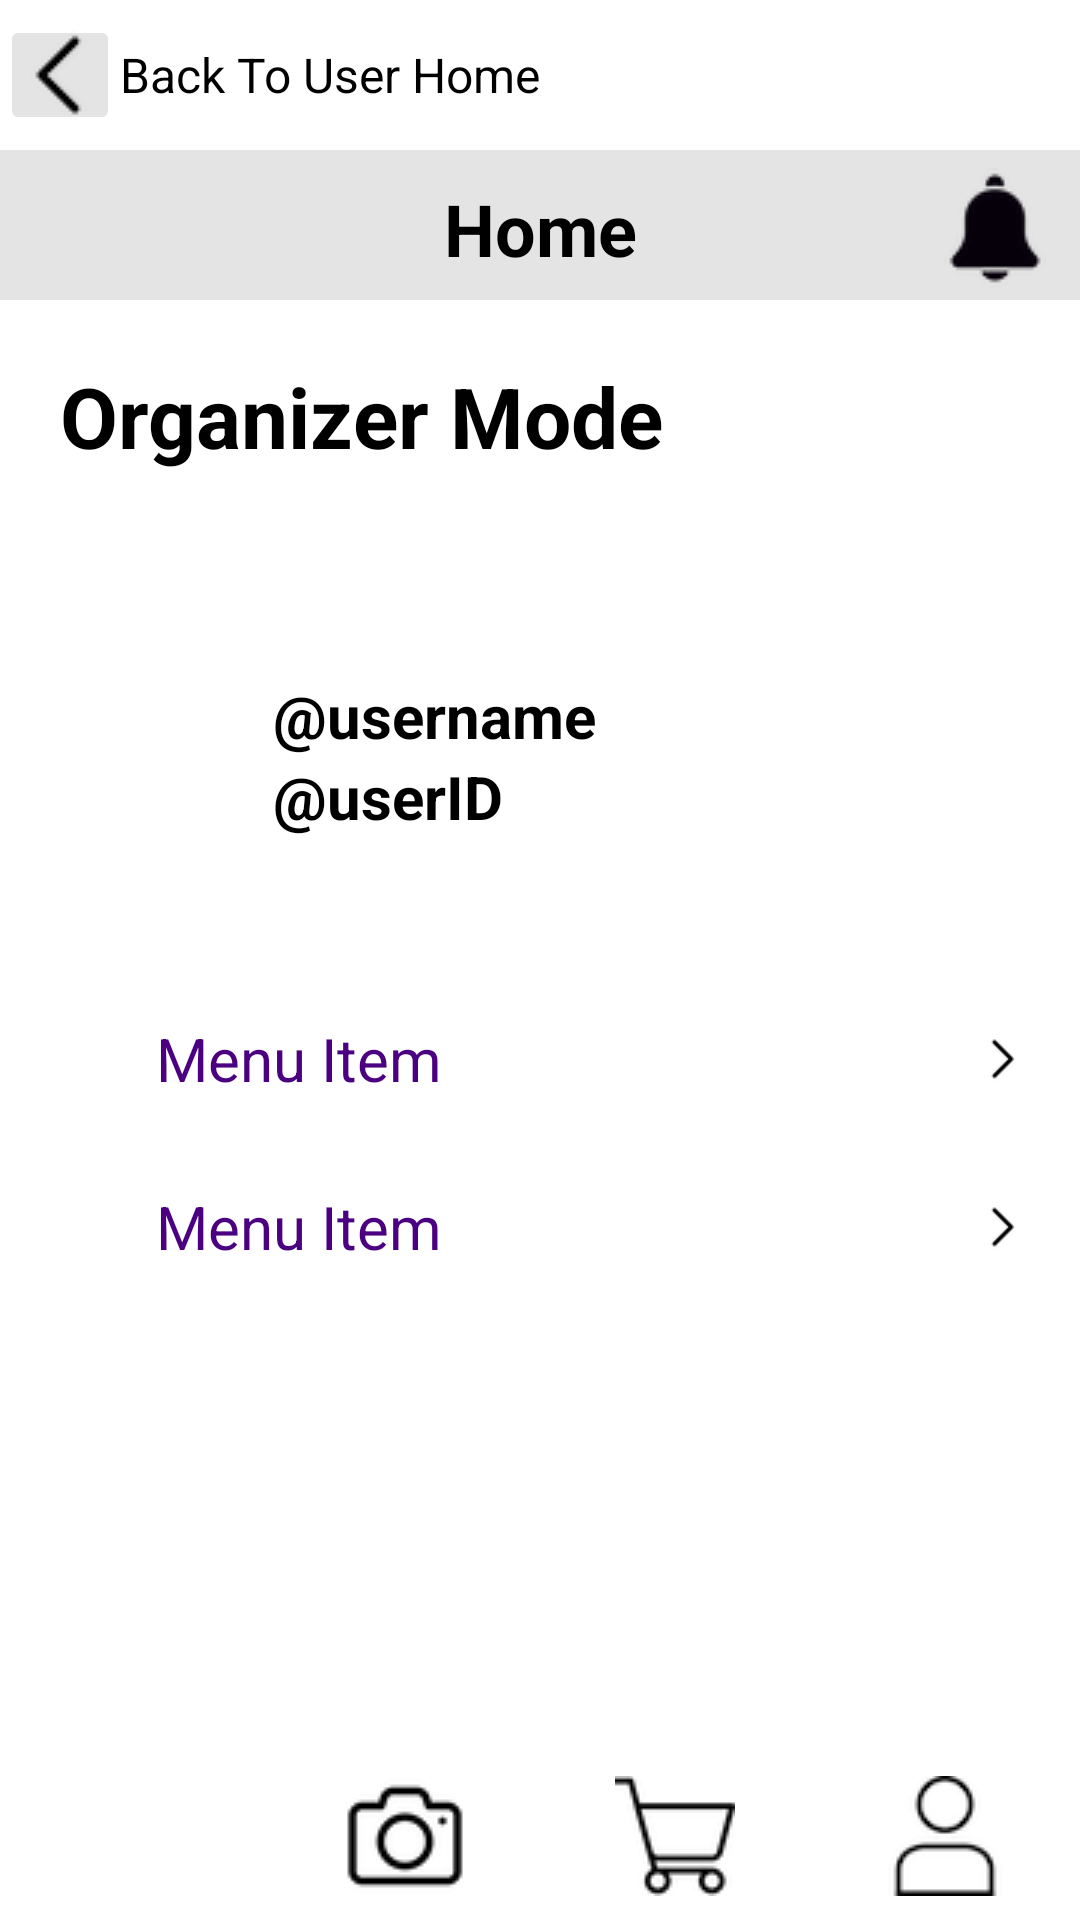

Screen size 1080×1920. Icon name, then its center in pixels as (x,y):
Checkout: (675,1836)
Notifications: (994,228)
Profile: (945,1836)
right arrow: (1002,1059), (1002,1227)
